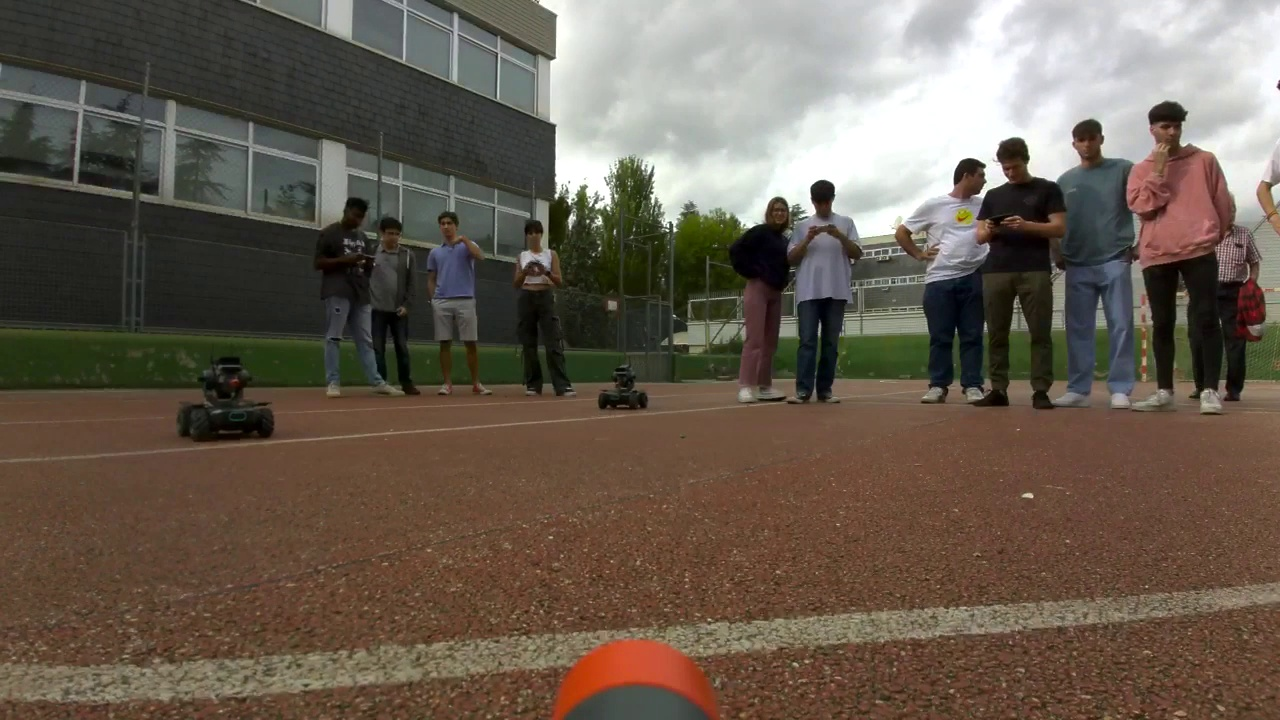robot: (175, 357, 273, 441), (601, 364, 649, 410)
